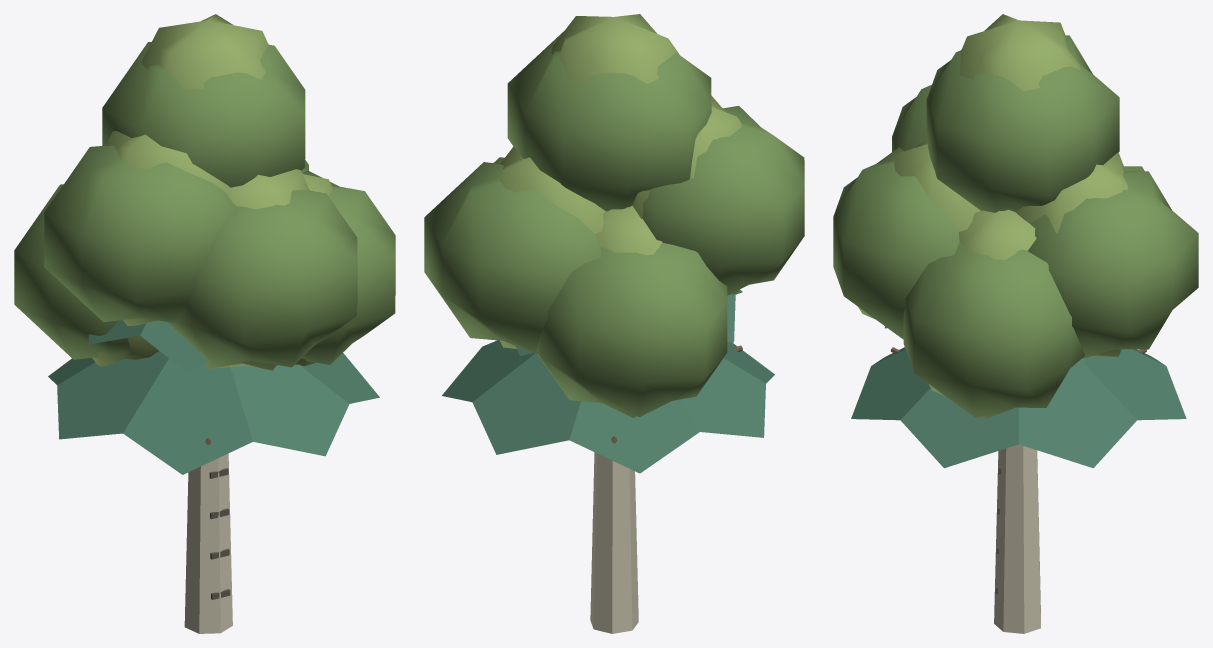
The model's file is tree.glb.
3 renders of one model, left to right at view 1: azimuth 30°, elevation 25°; view 2: azimuth 150°, elevation 25°; view 3: azimuth 270°, elevation 25°, orthographic.
Parts seen in each view (by area): view 1: batch-tree-oak-oak_foliage, batch-tree-pine-pine_foliage, batch-tree-birch-birch_foliage, batch-tree-birch-birch_bark; view 2: batch-tree-oak-oak_foliage, batch-tree-pine-pine_foliage, batch-tree-birch-birch_foliage, batch-tree-birch-birch_bark; view 3: batch-tree-oak-oak_foliage, batch-tree-pine-pine_foliage, batch-tree-birch-birch_foliage, batch-tree-birch-birch_bark.
Part boxes in pixels (bbox=[...]): batch-tree-oak-oak_foliage: bbox=[14, 42, 395, 367]; batch-tree-pine-pine_foliage: bbox=[48, 320, 379, 474]; batch-tree-birch-birch_foliage: bbox=[92, 14, 332, 370]; batch-tree-birch-birch_bark: bbox=[184, 453, 232, 633]; batch-tree-oak-oak_foliage: bbox=[424, 30, 804, 417]; batch-tree-pine-pine_foliage: bbox=[442, 289, 774, 473]; batch-tree-birch-birch_foliage: bbox=[499, 14, 742, 417]; batch-tree-birch-birch_bark: bbox=[590, 452, 638, 633]; batch-tree-oak-oak_foliage: bbox=[833, 35, 1198, 418]; batch-tree-pine-pine_foliage: bbox=[851, 326, 1186, 468]; batch-tree-birch-birch_foliage: bbox=[894, 14, 1128, 418]; batch-tree-birch-birch_bark: bbox=[994, 444, 1040, 633].
Size of the model in its own units: 2.81 by 4.83 by 2.65.
